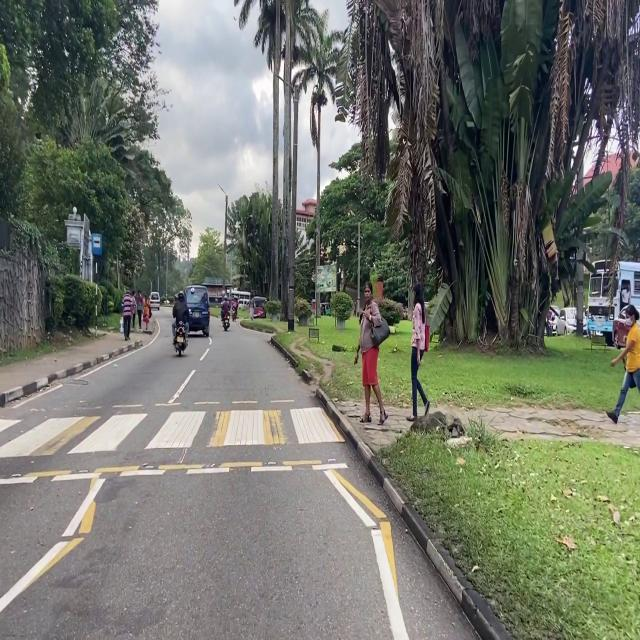bus: (588, 260, 640, 345), (231, 289, 250, 302)
car: (557, 308, 586, 335), (613, 308, 630, 348), (551, 305, 559, 334)
motorcycle: (174, 321, 186, 356), (223, 313, 230, 331), (546, 320, 552, 337), (233, 310, 237, 322)
person: (354, 282, 389, 425), (607, 304, 640, 424), (408, 283, 429, 423), (172, 292, 189, 341), (122, 290, 134, 341), (142, 295, 151, 332), (131, 288, 137, 329), (620, 285, 630, 309), (137, 292, 143, 328), (221, 296, 230, 319), (249, 296, 254, 319), (232, 297, 238, 309), (547, 309, 553, 321)
three wheeler: (253, 296, 266, 318), (321, 302, 330, 315)
van: (185, 285, 209, 337), (150, 292, 160, 309)
